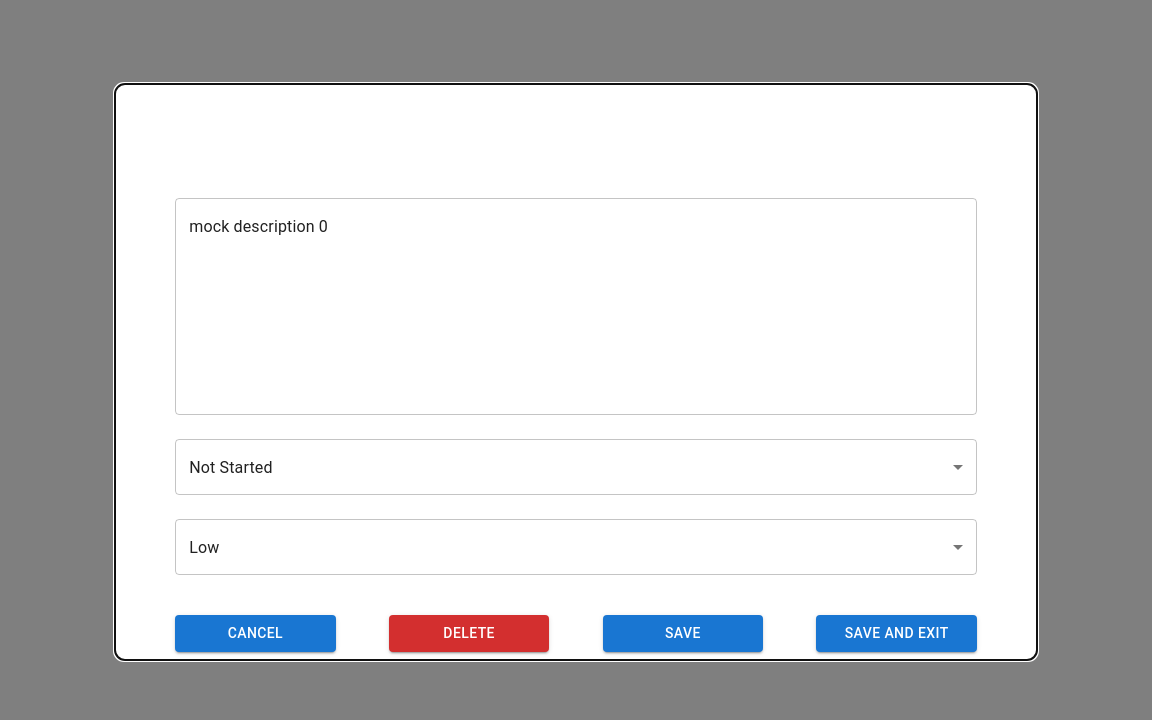
Test case: TaskEditor › With blank task name › the alert popup › closes the alert popup when the okay button is clicked
Click the button "Save" at [683, 633], box [603,615,763,652]
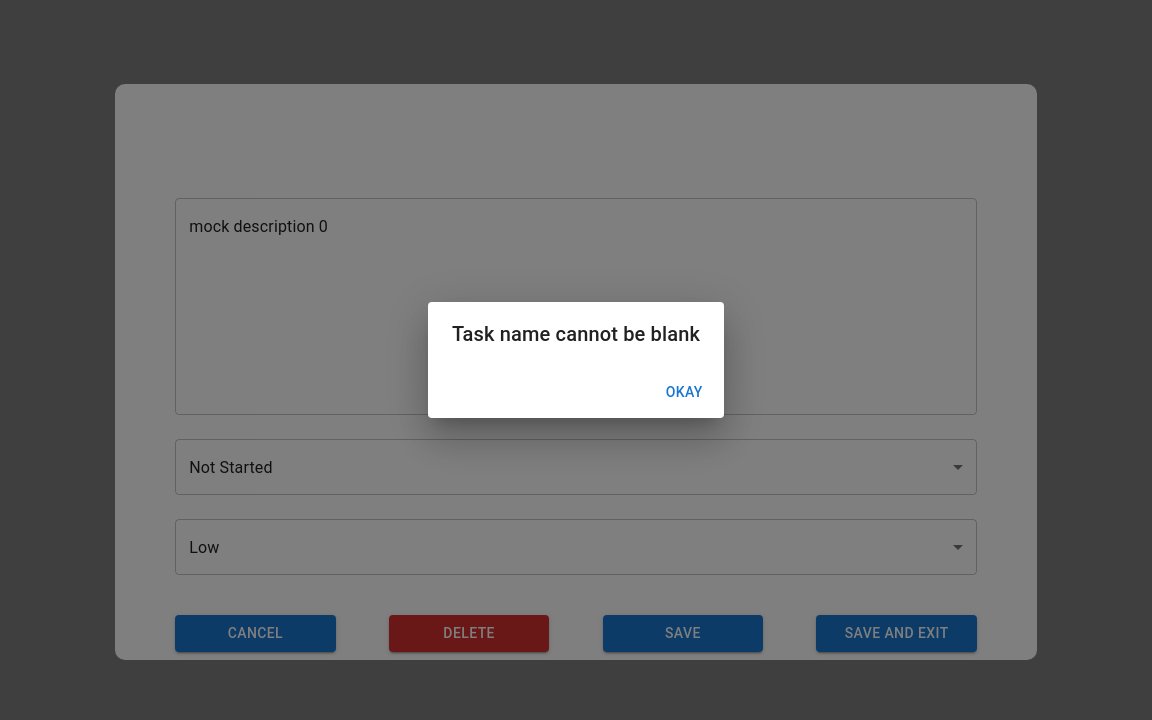
Click the button "Okay" at [684, 392], box [652,374,716,410]
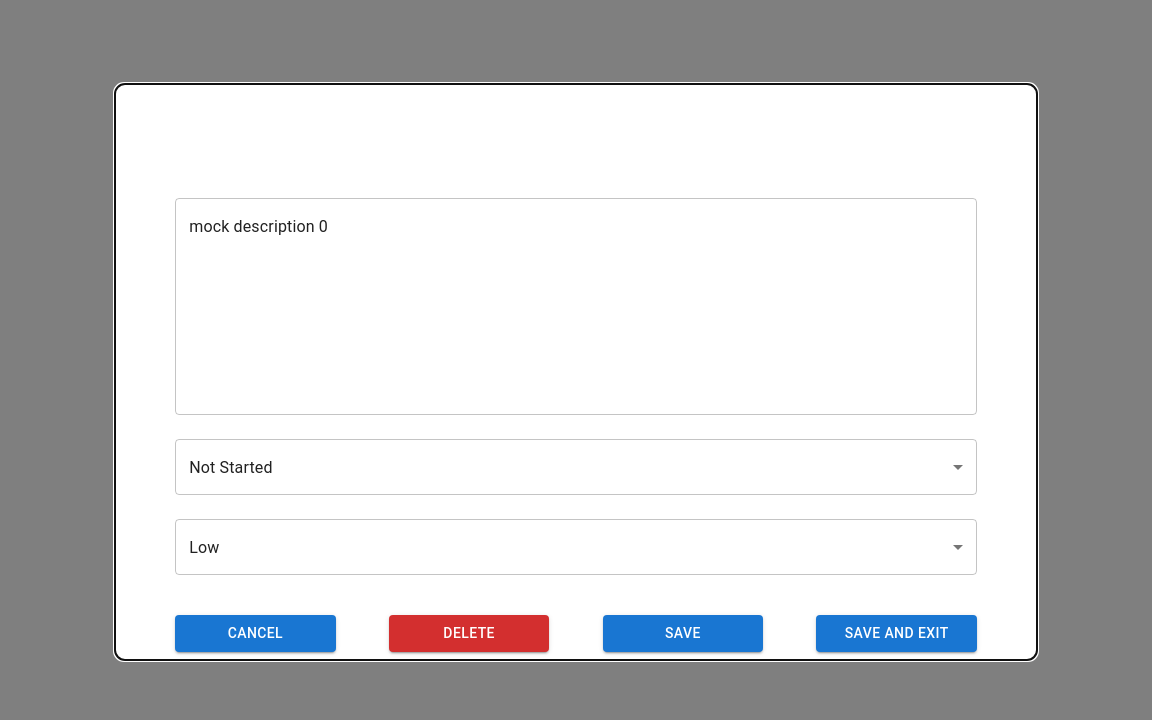
Check: the heading "Task name cannot be blank" is gone
